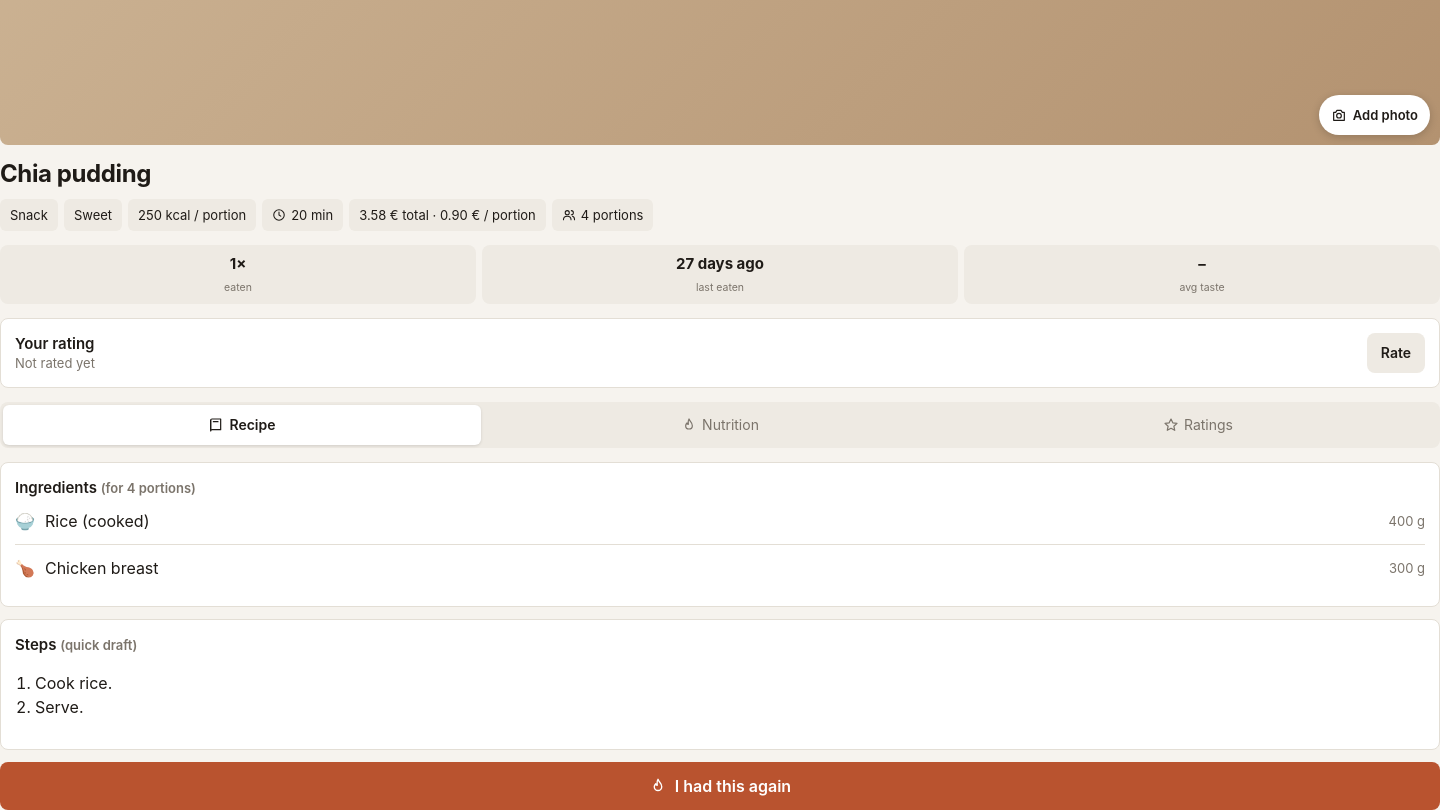
Test: logging a home-made snack › is from the jar by default, counted in portions
This screenshot has width=1440, height=810.
(page scrolled)
Click the button "I had this again": (720, 786) [0, 762, 1439, 809]
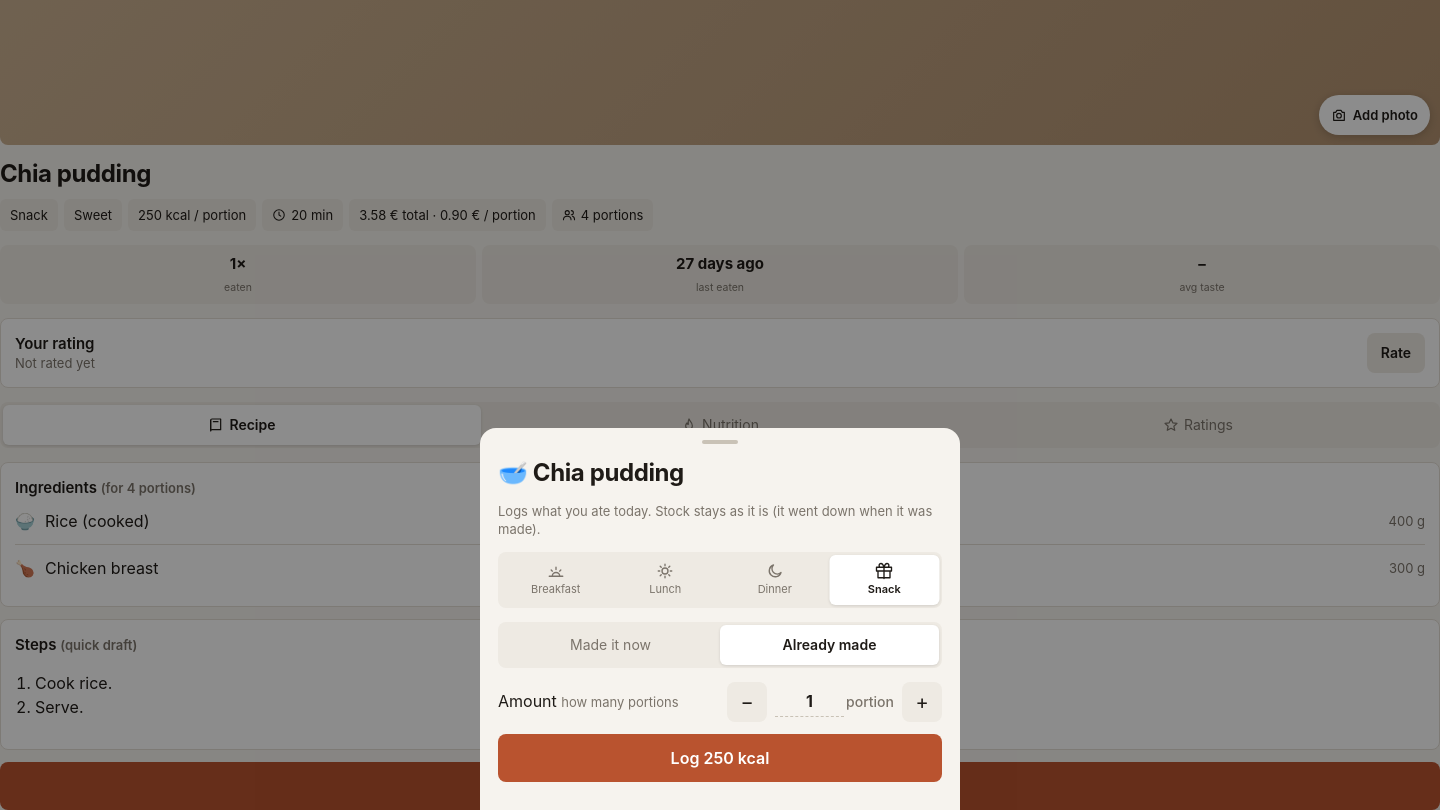
Click the button named "More amount": (922, 702) [902, 682, 942, 722]
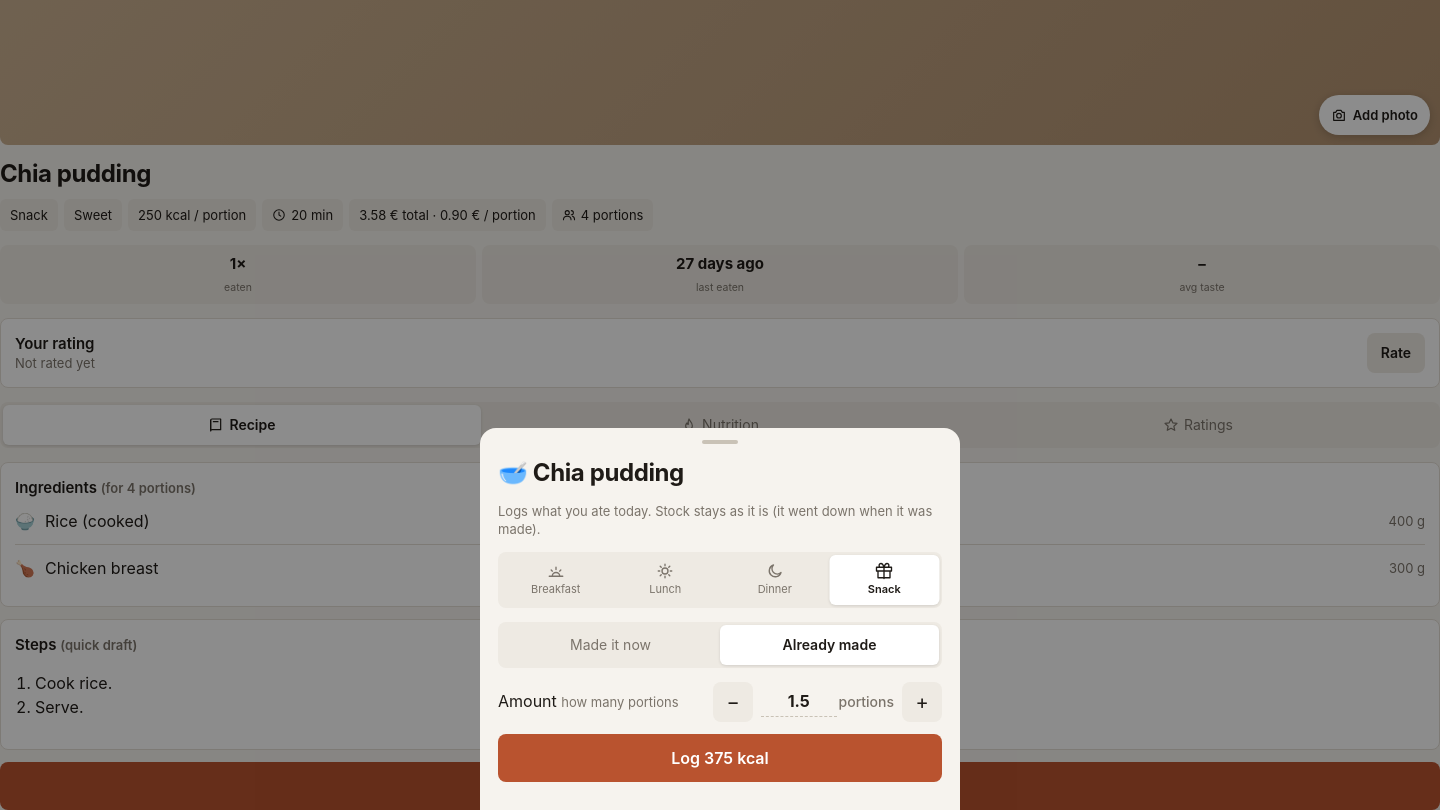
Click the button "Log 375 kcal": (720, 758) [498, 734, 942, 782]
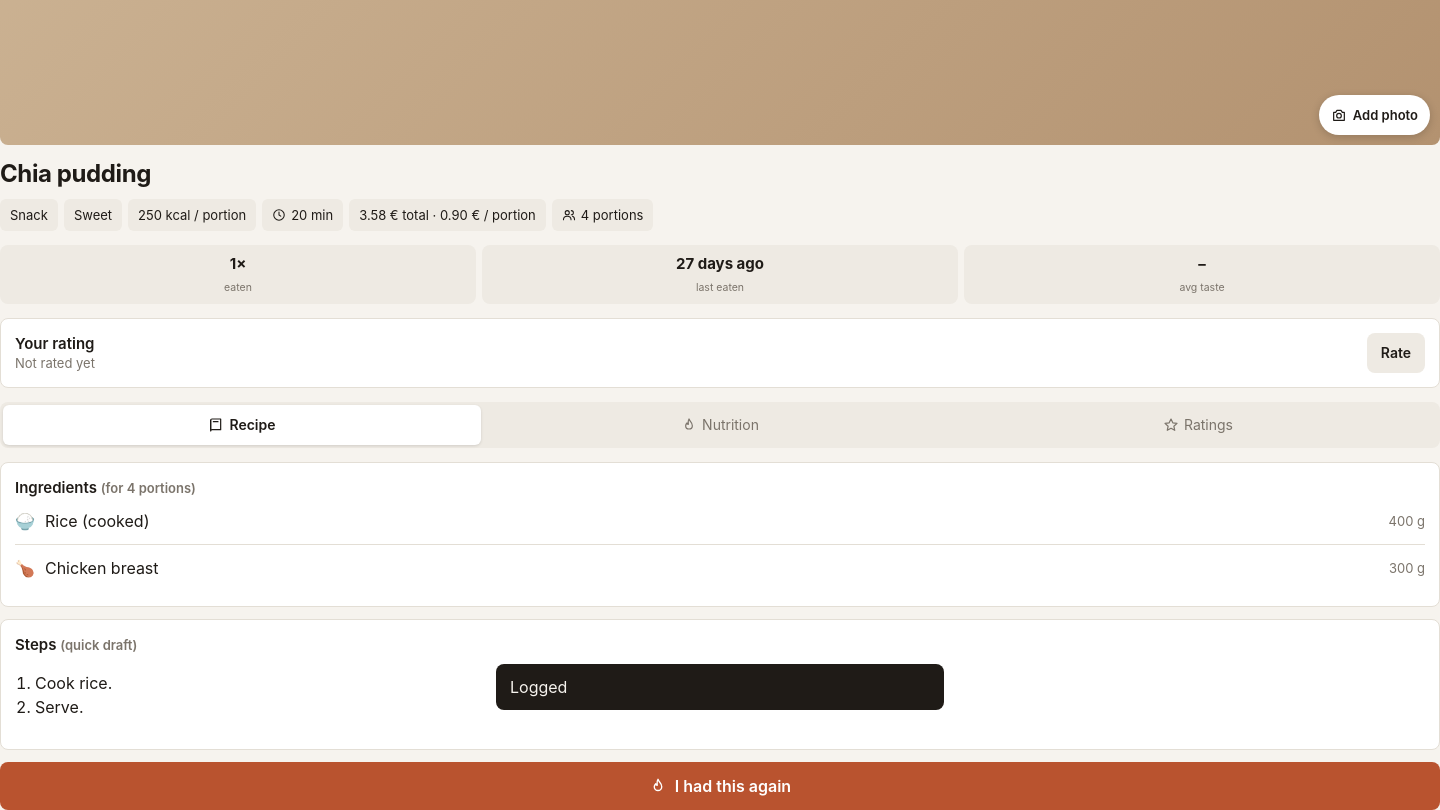
expect the text "Logged" is shown: met, box [510, 677, 567, 697]
